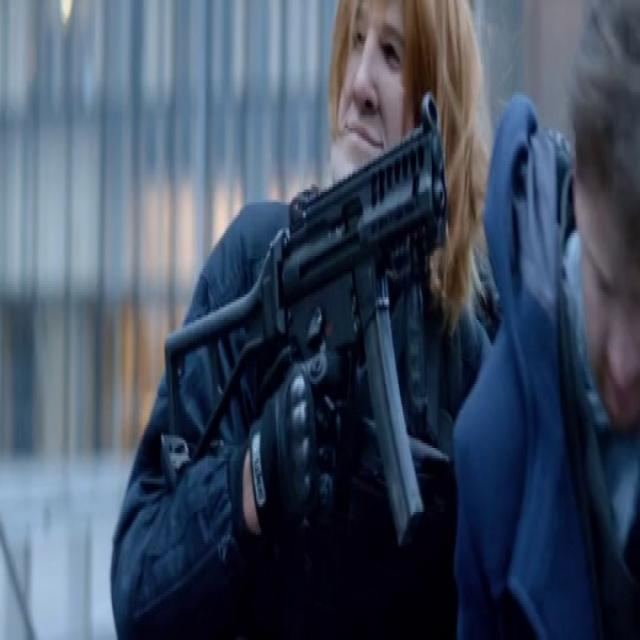rifle: (157, 93, 452, 563)
